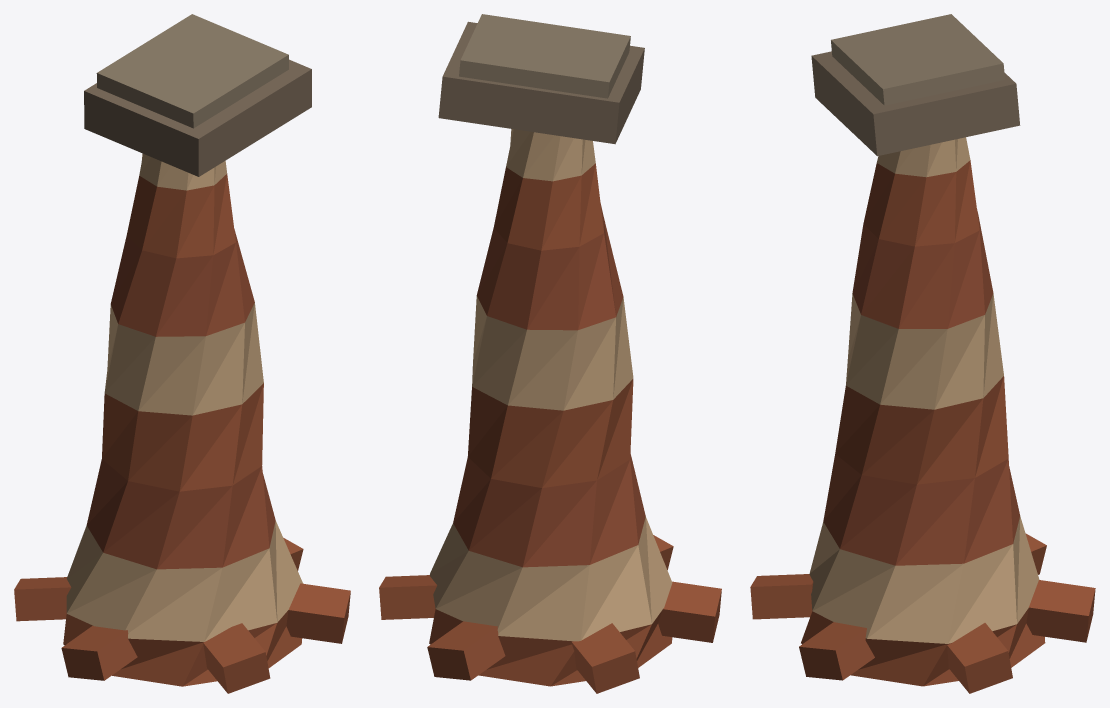
Rendered from w3_balanced_hoodoo.glb.
3 renders of one model, left to right at view 1: azimuth 30°, elevation 25°; view 2: azimuth 150°, elevation 25°; view 3: azimuth 270°, elevation 25°, orthographic. The views are drawn at different scales.
Visible parts, largest first — view 1: BalancedHoodoo; view 2: BalancedHoodoo; view 3: BalancedHoodoo.
Boxes of the visible parts, x1,y1,x2,y2 form: BalancedHoodoo: (14, 14, 350, 693); BalancedHoodoo: (379, 14, 721, 693); BalancedHoodoo: (750, 14, 1095, 693).
Bounding box in the file's own units: 14.03 × 27.51 × 14.46.
